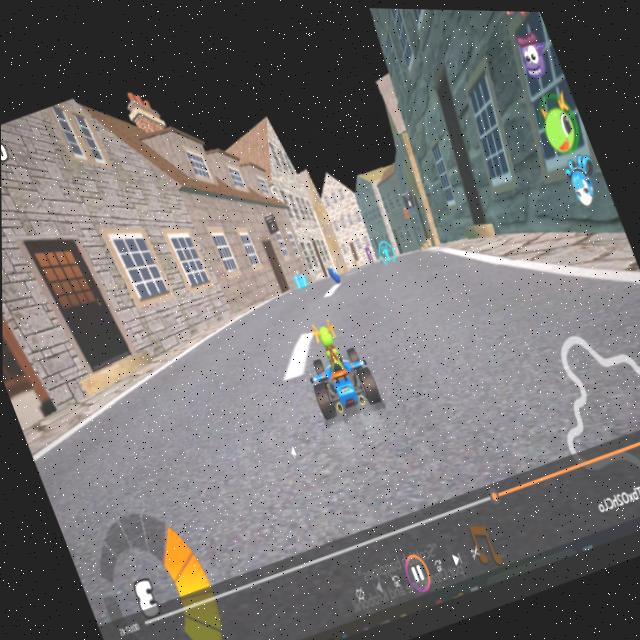bonus: (373, 235, 400, 268), (288, 264, 312, 294)
nitro: (325, 262, 342, 286)
player_kart: (282, 305, 390, 432)
track: (120, 319, 326, 527), (348, 251, 517, 465)
